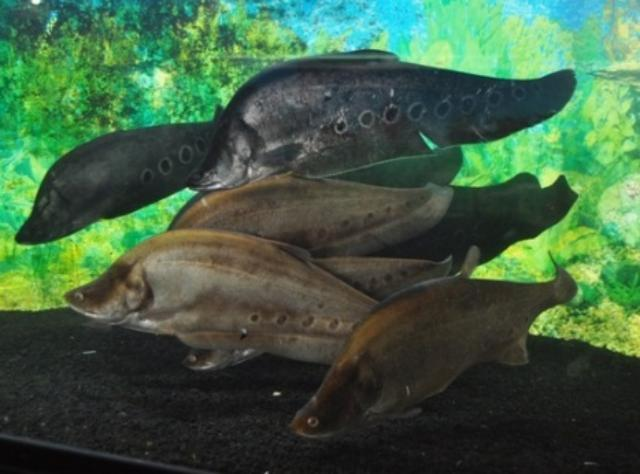Mulut: (56, 278, 94, 322), (182, 166, 226, 198)
Sirip Dada: (374, 398, 431, 431), (256, 136, 304, 174)
Sirip Punggung: (270, 228, 318, 274), (454, 240, 494, 284)
